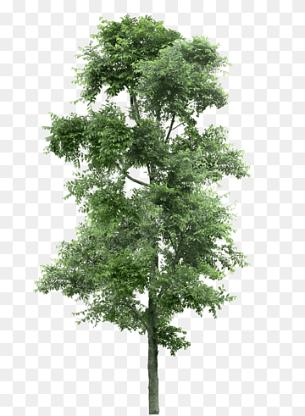tree: (34, 10, 254, 416)
